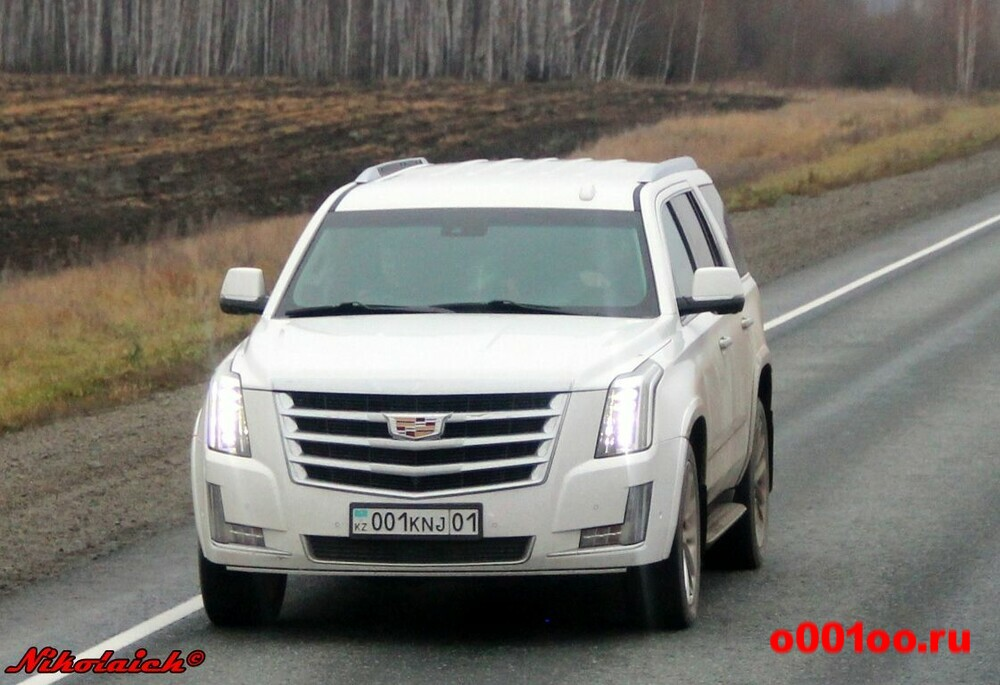license_plate: (351, 504, 486, 541)
